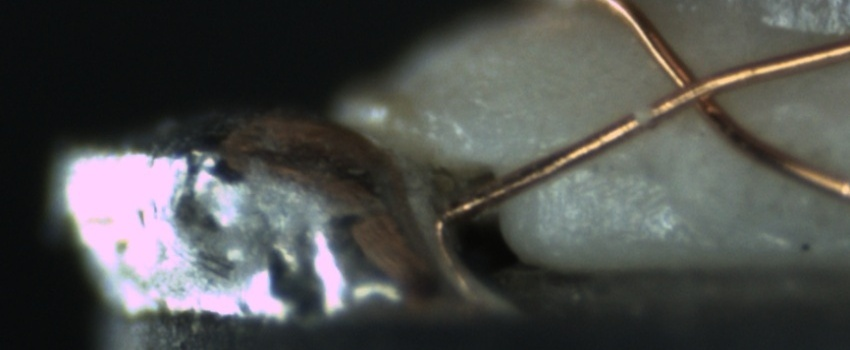CL: (653, 56, 737, 125)
